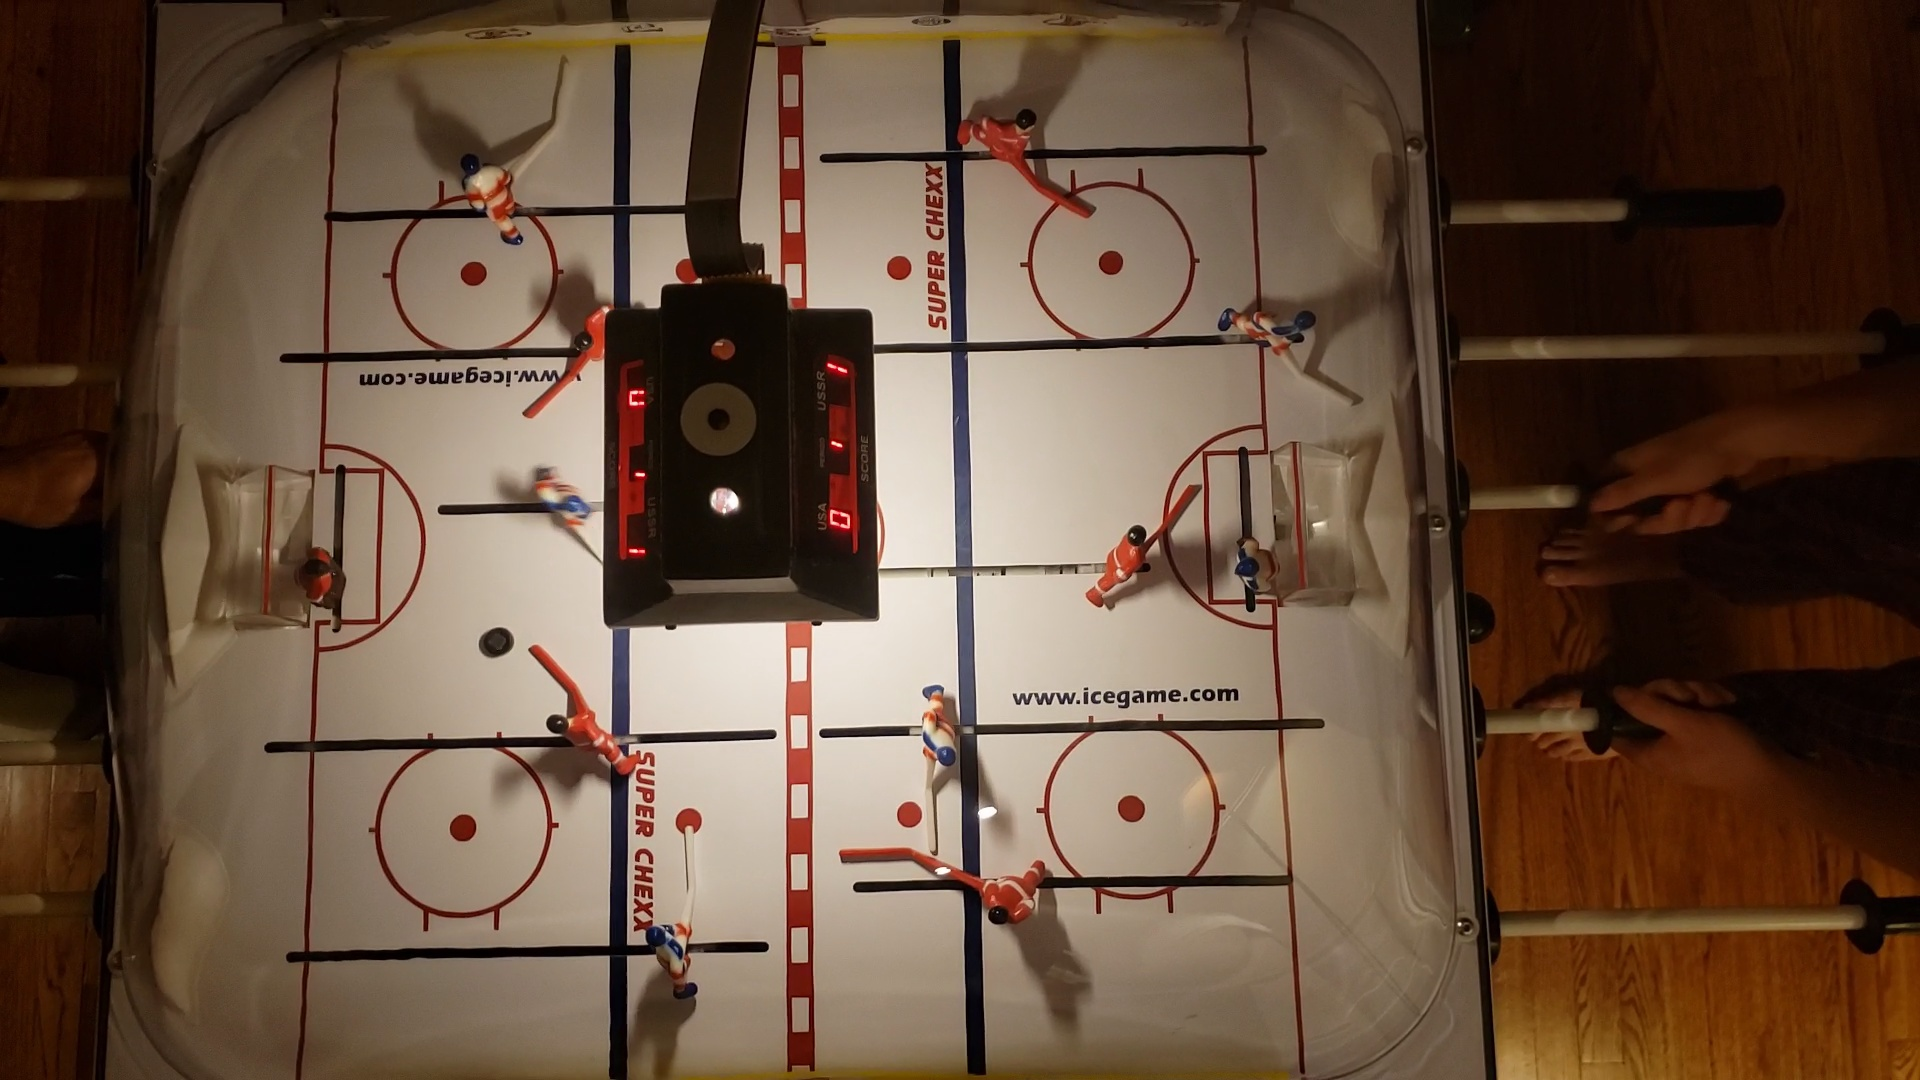puck: (480, 626, 516, 659)
